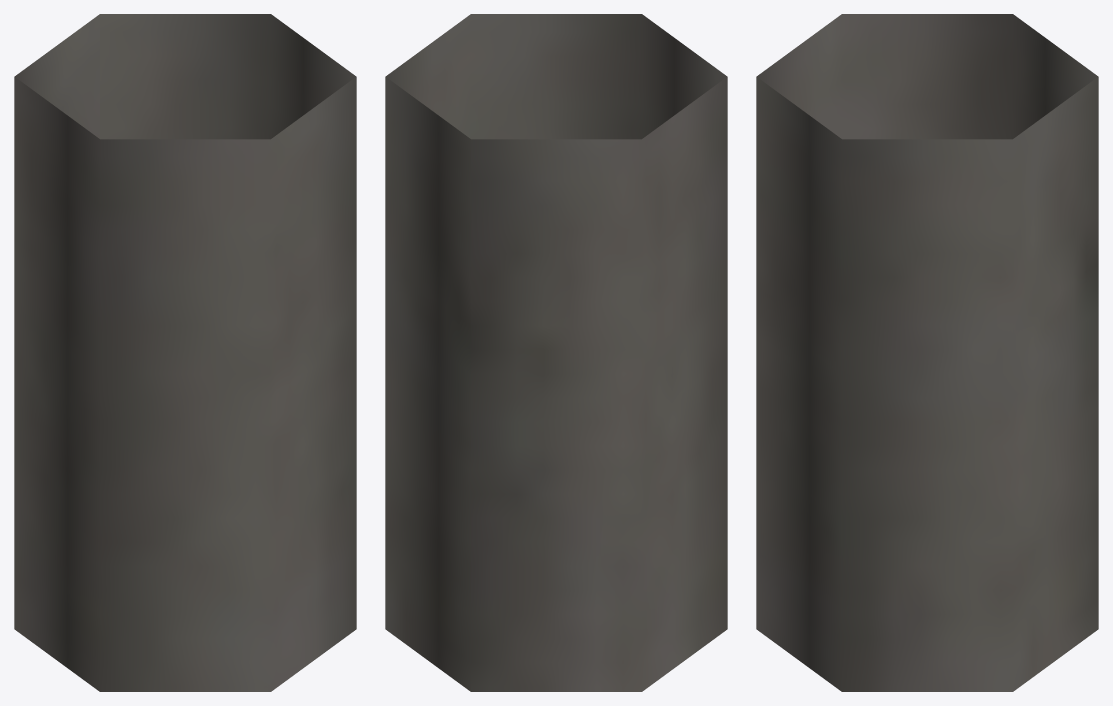
File: cable_2cm.glb
The picture shows the model from 3 angles, left to right: view 1: azimuth 30°, elevation 25°; view 2: azimuth 150°, elevation 25°; view 3: azimuth 270°, elevation 25°; orthographic projection.
Parts seen in each view (by area): view 1: cable_2cm.001; view 2: cable_2cm.001; view 3: cable_2cm.001.
Part boxes in pixels (x1,y1,x2,y2): cable_2cm.001: (14, 14, 356, 691); cable_2cm.001: (385, 14, 727, 691); cable_2cm.001: (756, 14, 1098, 691).
Bounding box in the file's own units: 0.00971 × 0.02 × 0.0112.
Materials: 1 (1 with a texture image).
